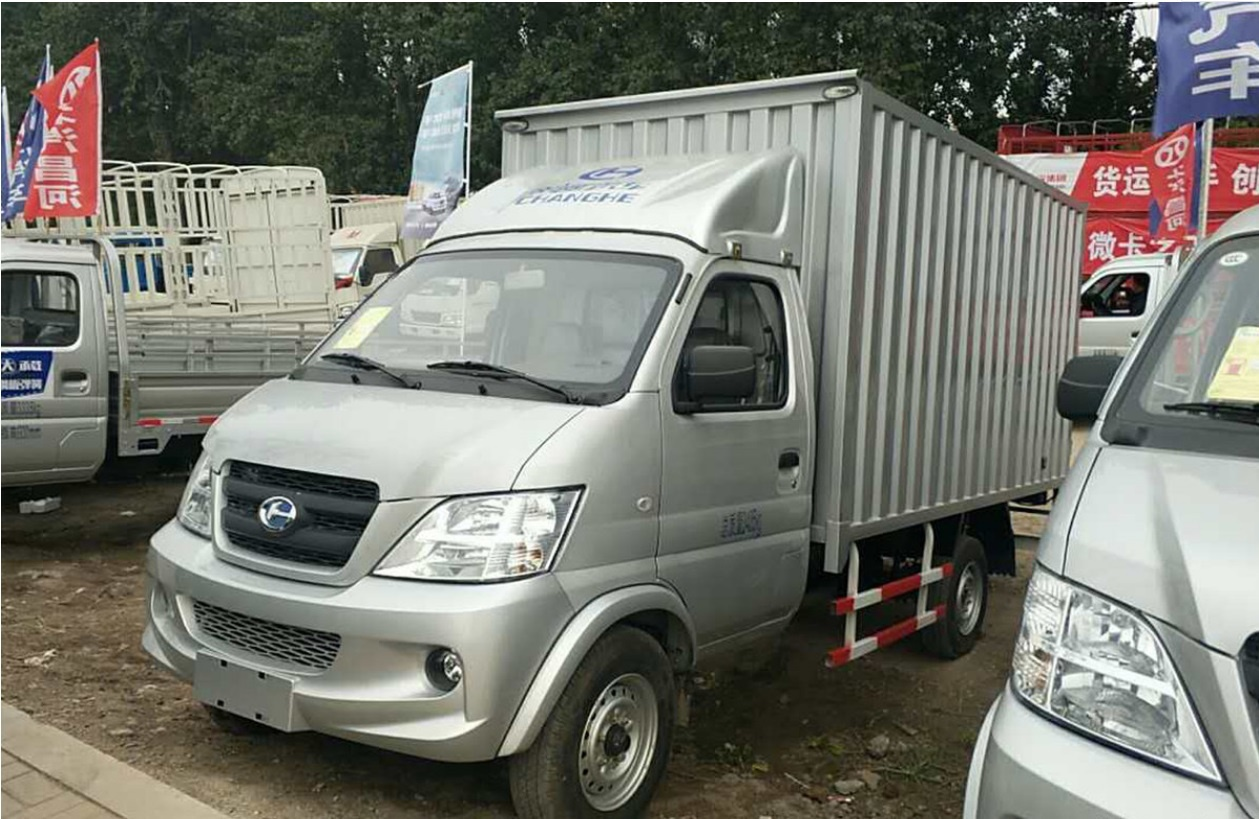racing car: (120, 66, 1085, 784)
